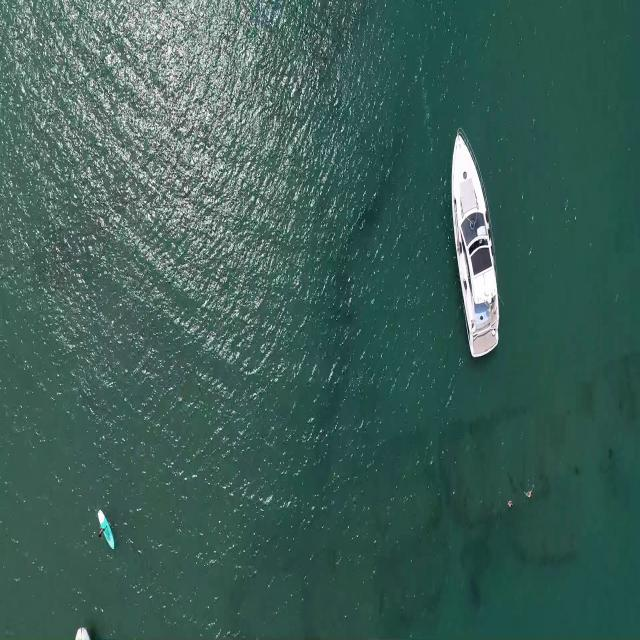boat: (448, 125, 502, 363)
person: (523, 484, 536, 498), (97, 523, 108, 538), (506, 498, 514, 508)
surfboard: (98, 505, 115, 555)
